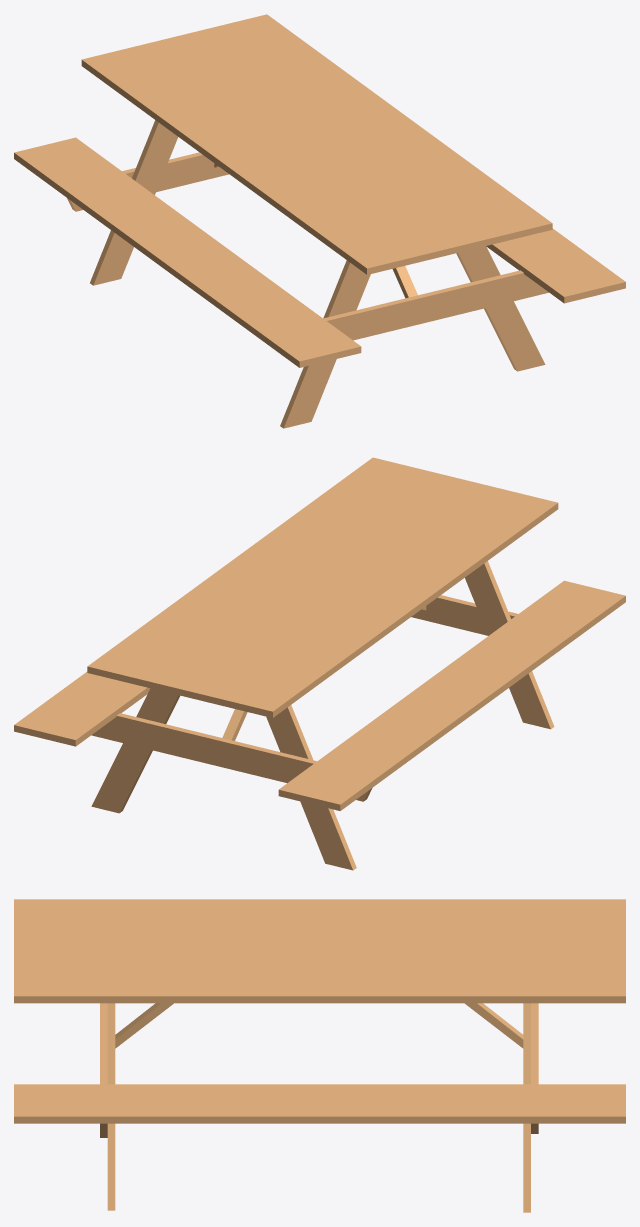
The model's file is PicnicTable.FBX.
3 renders of one model, top to bottom at view 1: azimuth 30°, elevation 25°; view 2: azimuth 150°, elevation 25°; view 3: azimuth 270°, elevation 25°, orthographic. The views are drawn at different scales.
Visible parts, largest first — view 1: Box002; view 2: Box002; view 3: Box002.
Boxes of the visible parts, <box> form: Box002: <box>14,14,625,428</box>; Box002: <box>14,457,625,870</box>; Box002: <box>14,899,625,1212</box>.
Bounding box in the file's own units: 1.34 × 0.716 × 2.03.
Materials: 1 (1 with a texture image).
